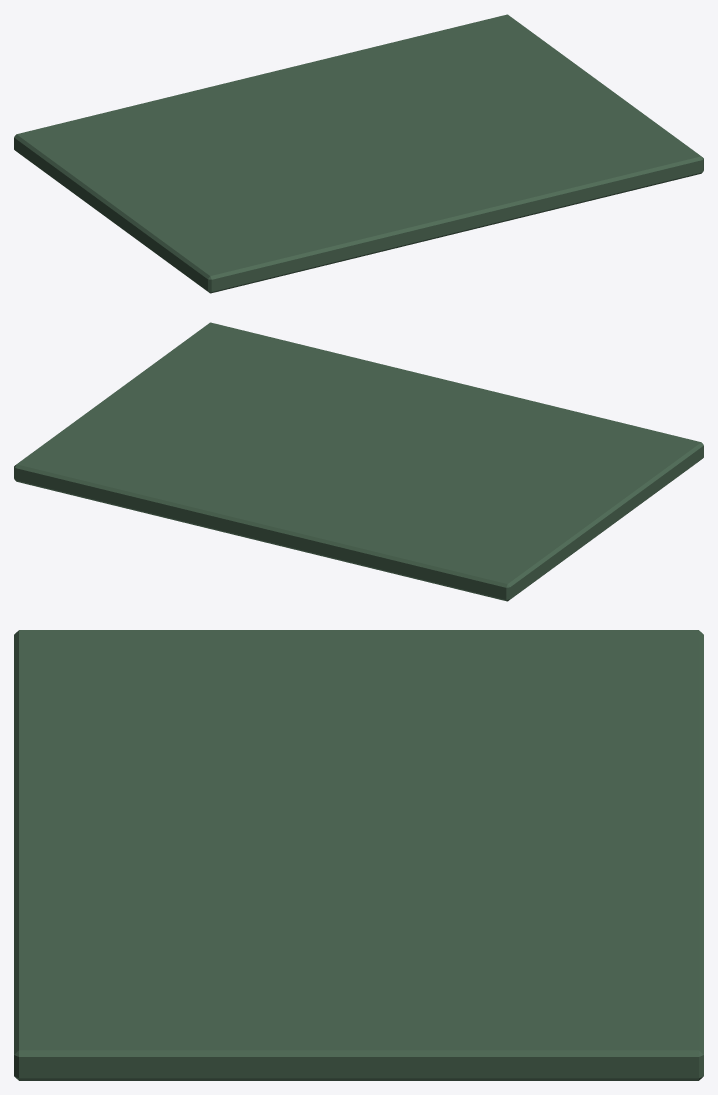
File: fbx_oldbuilding_boundary_g2.fbx
The picture shows the model from 3 angles, top to bottom: view 1: azimuth 30°, elevation 25°; view 2: azimuth 150°, elevation 25°; view 3: azimuth 270°, elevation 25°; orthographic projection. The views are drawn at different scales.
Visible parts, largest first — view 1: fbx_oldbuilding_boundary_g2; view 2: fbx_oldbuilding_boundary_g2; view 3: fbx_oldbuilding_boundary_g2.
Part boxes in pixels (left/top/right/bottom): fbx_oldbuilding_boundary_g2: left=14, top=14, right=703, bottom=293; fbx_oldbuilding_boundary_g2: left=14, top=322, right=703, bottom=601; fbx_oldbuilding_boundary_g2: left=14, top=630, right=703, bottom=1080.
Bounding box in the file's own units: 6 × 0.2013 × 4.12.
1 material, 1 textured.
